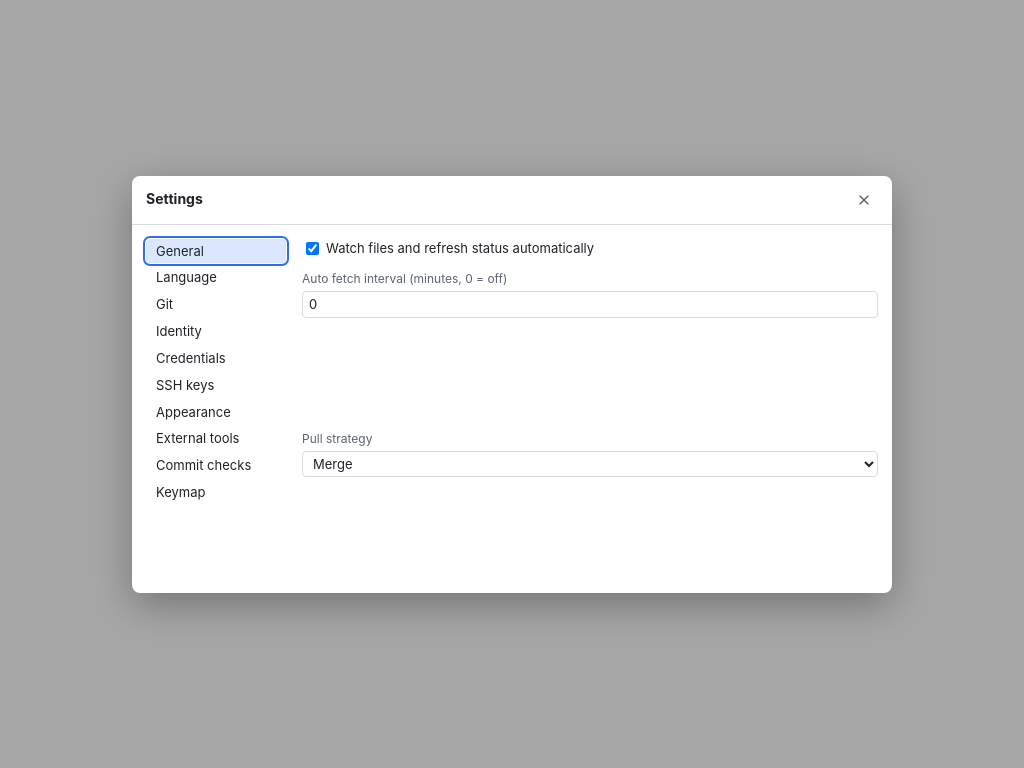
Test case: shows the profile manager in Settings without reading secrets
Click the button "Credentials" at (216, 358), box [146,346,286,371]
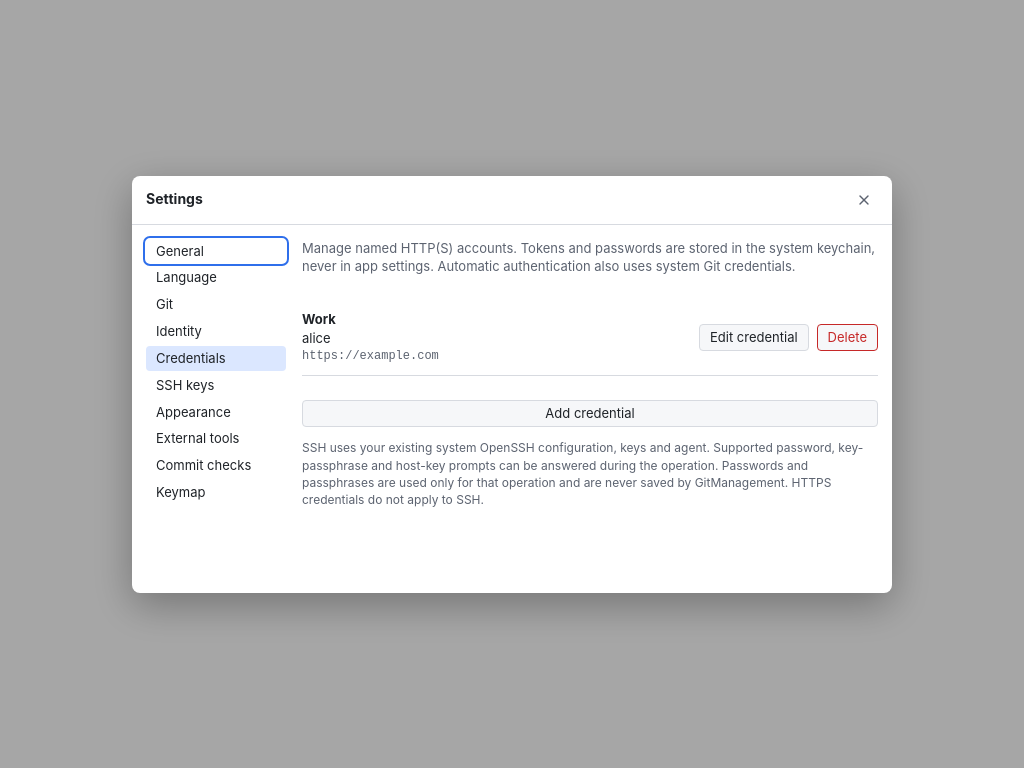
Now the text "Work" is shown, box [302,311,336,327]
